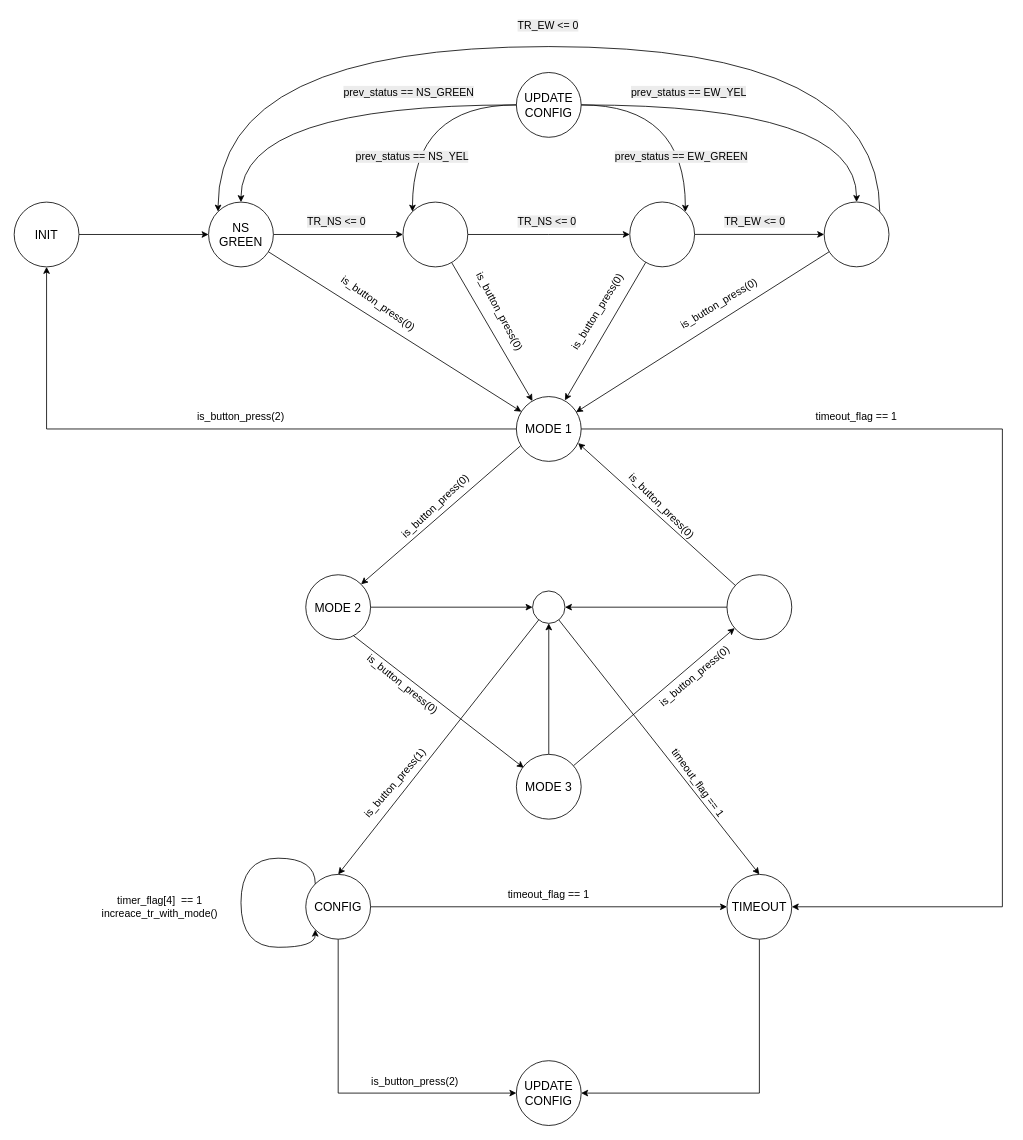
This 1023x1140 diagram has some shape labels left out. The centre of each missing label's shape, as x and y in pixels:
EW GREEN: pixel 662 234
EW YELLOW: pixel 856 234
MODE 4: pixel 759 607
NS YELLOW: pixel 435 234
